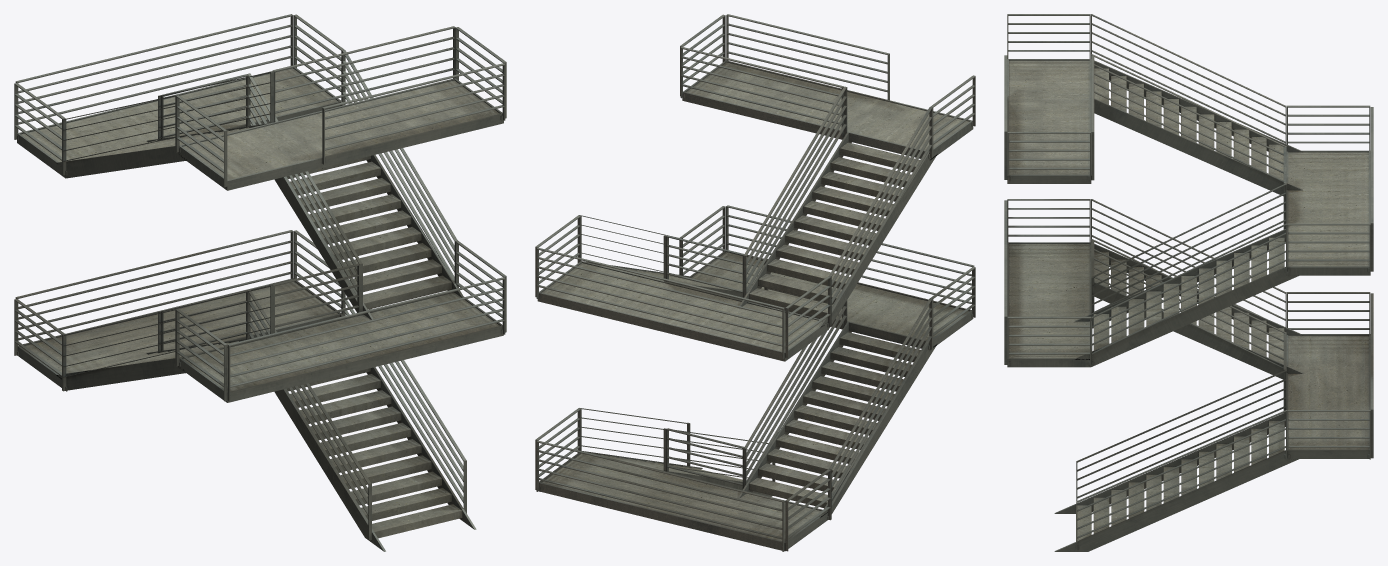
Rendered from stairs.glb.
3 views of the same model, side by side, from view 1: azimuth 30°, elevation 25°; view 2: azimuth 150°, elevation 25°; view 3: azimuth 270°, elevation 25° (orthographic). The views are drawn at different scales.
Parts seen in each view (by area): view 1: Stairs1; view 2: Stairs1; view 3: Stairs1.
Boxes of the visible parts, x1=… form: Stairs1: x1=14, y1=14, x2=506, y2=551; Stairs1: x1=535, y1=14, x2=975, y2=551; Stairs1: x1=1004, y1=14, x2=1373, y2=551.
Bounding box in the file's own units: 9.03 × 14.86 × 11.84.
Materials: 2 (2 with a texture image).
